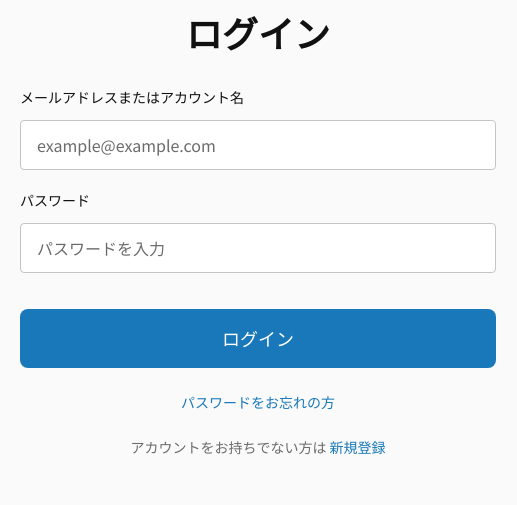
Test: LoginForm › メールアドレス未入力でバリデーションエラーが表示される
This screenshot has width=517, height=505.
Type "Password123" into the password field labelled "パスワード" at point(258, 248), box x1=20 y1=223 x2=496 y2=273
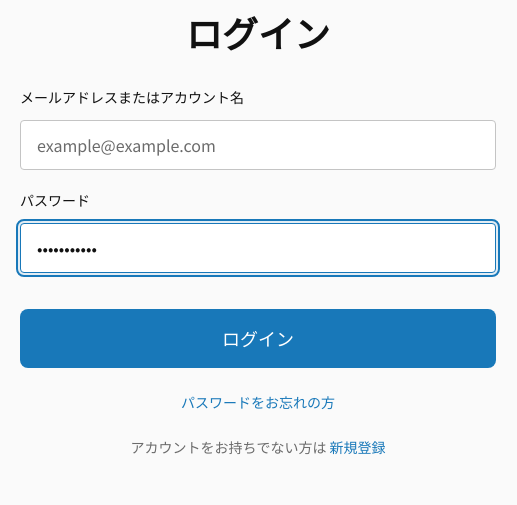
Click the button "ログイン" at point(258, 338), box x1=20 y1=309 x2=496 y2=368
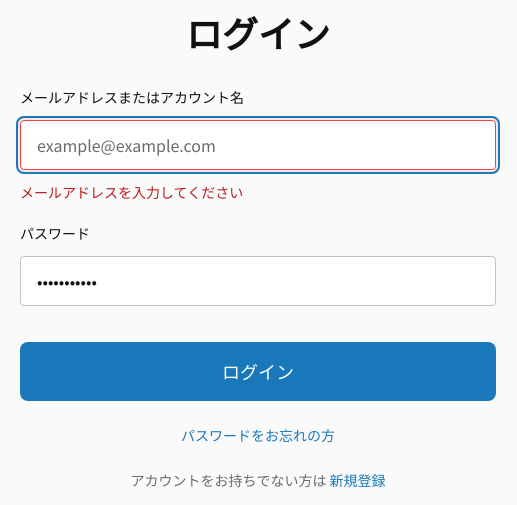
Check: the text "メールアドレスを入力してください" is shown, box x1=20 y1=182 x2=243 y2=202
